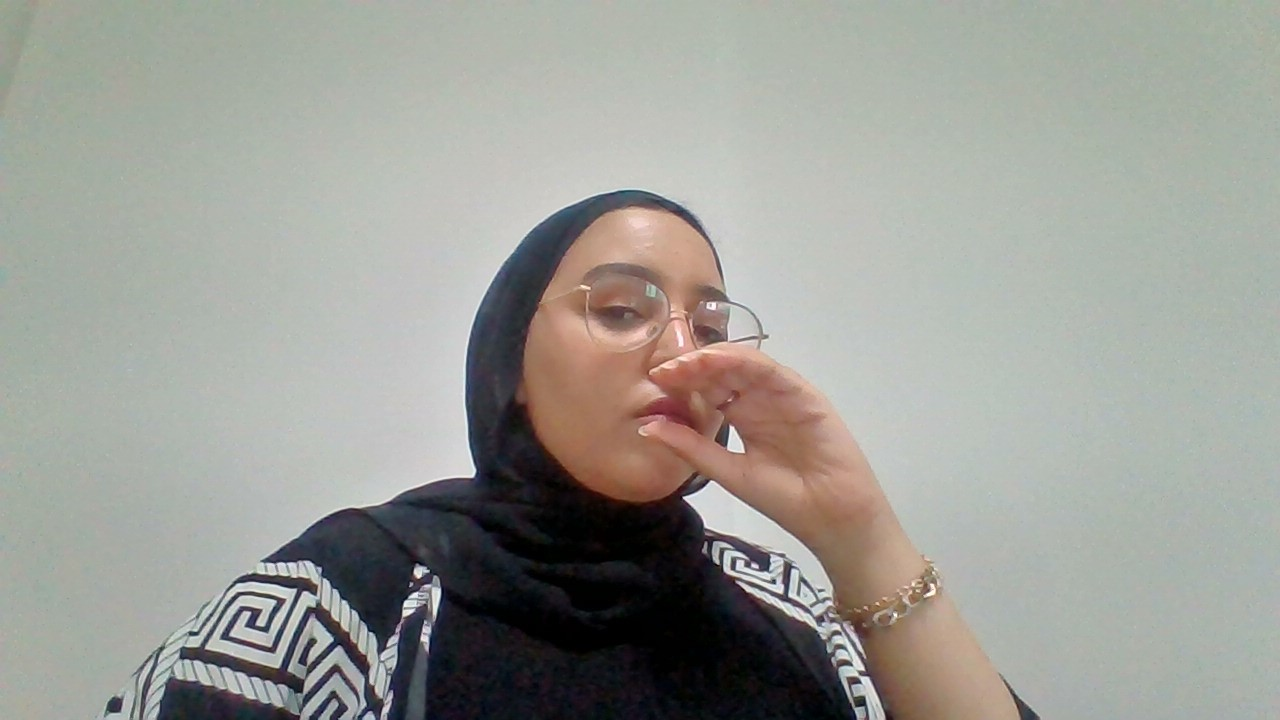drink: (637, 347, 879, 531)
